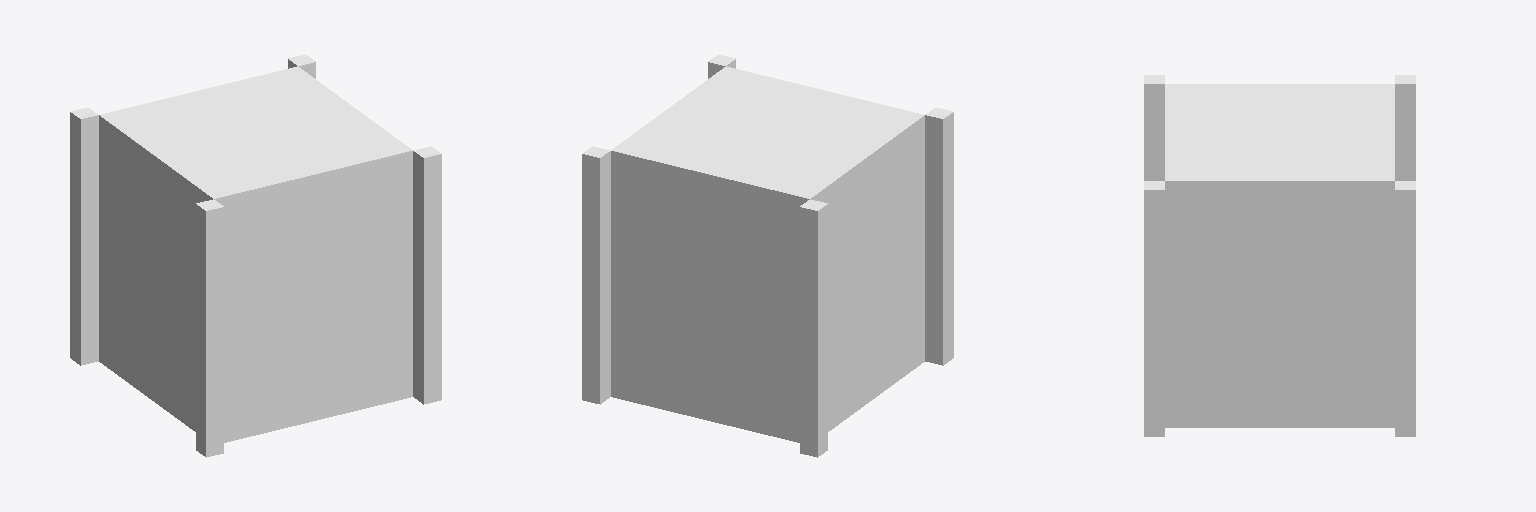
File: Pillar.obj
3 renders of one model, left to right at view 1: azimuth 30°, elevation 25°; view 2: azimuth 150°, elevation 25°; view 3: azimuth 270°, elevation 25°, orthographic.
Visible parts, largest first — view 1: object 1; view 2: object 1; view 3: object 1.
Boxes of the visible parts, x1=… form: object 1: x1=70, y1=54, x2=441, y2=457; object 1: x1=582, y1=54, x2=953, y2=457; object 1: x1=1144, y1=75, x2=1415, y2=436.
Size of the model in its own units: 3.9 by 3.9 by 3.9.